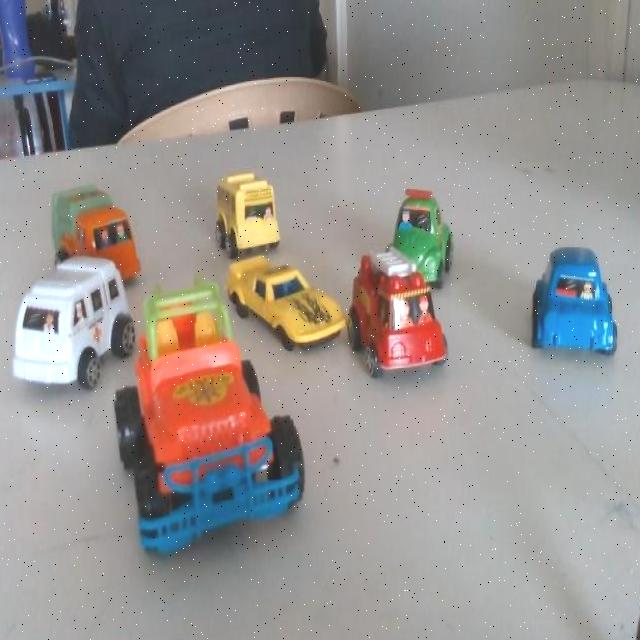car: (135, 348, 309, 564), (216, 238, 358, 373), (516, 233, 634, 387), (10, 268, 120, 388), (357, 252, 448, 387), (51, 175, 146, 288), (388, 190, 462, 292), (222, 162, 289, 257)
